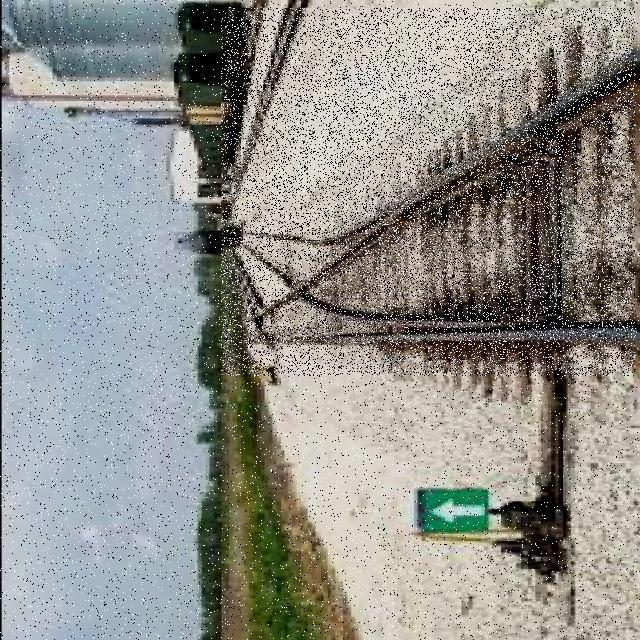rail: (221, 8, 635, 376)
